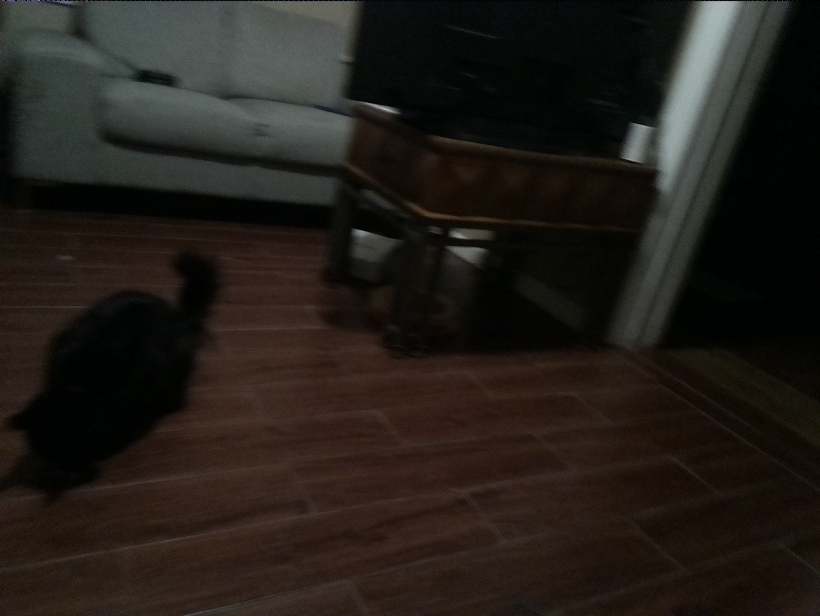cat: (8, 244, 227, 486)
